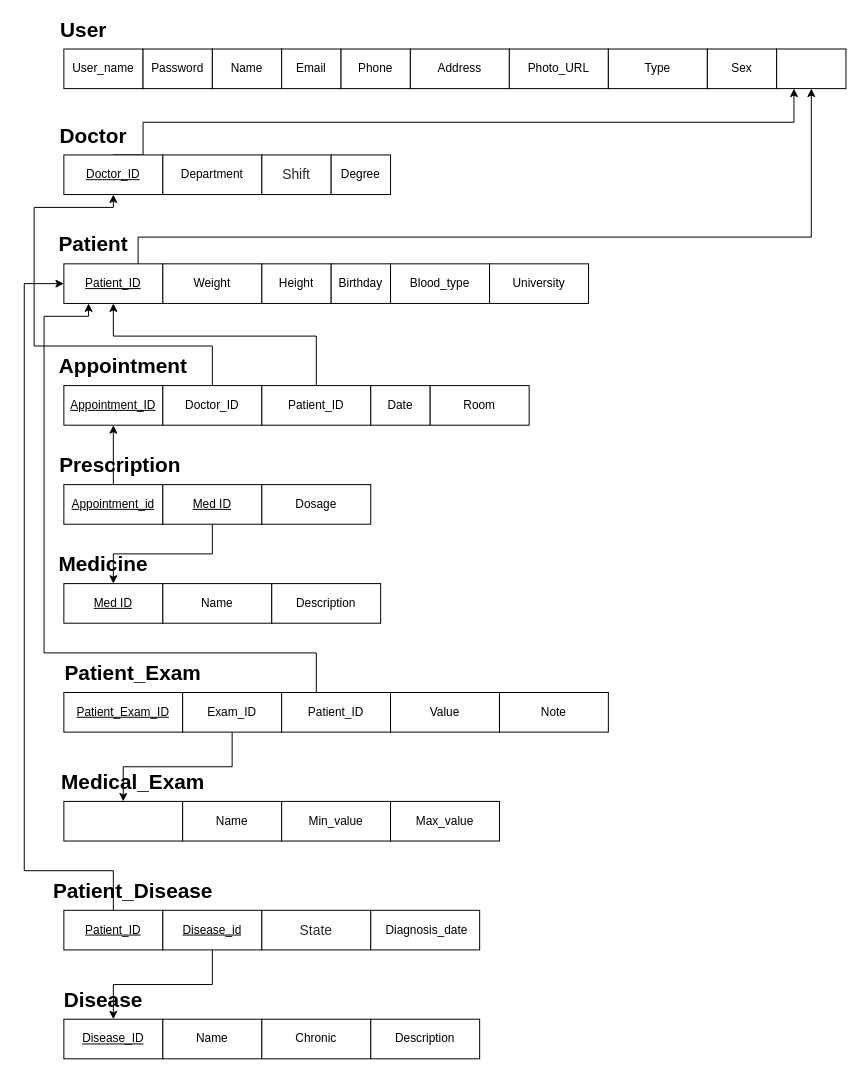
Some shapes in this 863 by 1076 pixel diagram are drawn without their labels. The centre of each missing label's shape, as x and y in pixels:
Medical_Exam_ID: point 123,820
User_ID: point 811,68
